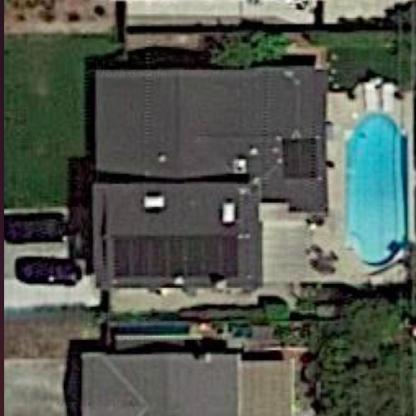car: (4, 206, 73, 250), (7, 253, 85, 291)
solar_panel: (103, 225, 245, 285), (276, 137, 323, 187)
swimming_pool: (334, 106, 413, 275)
